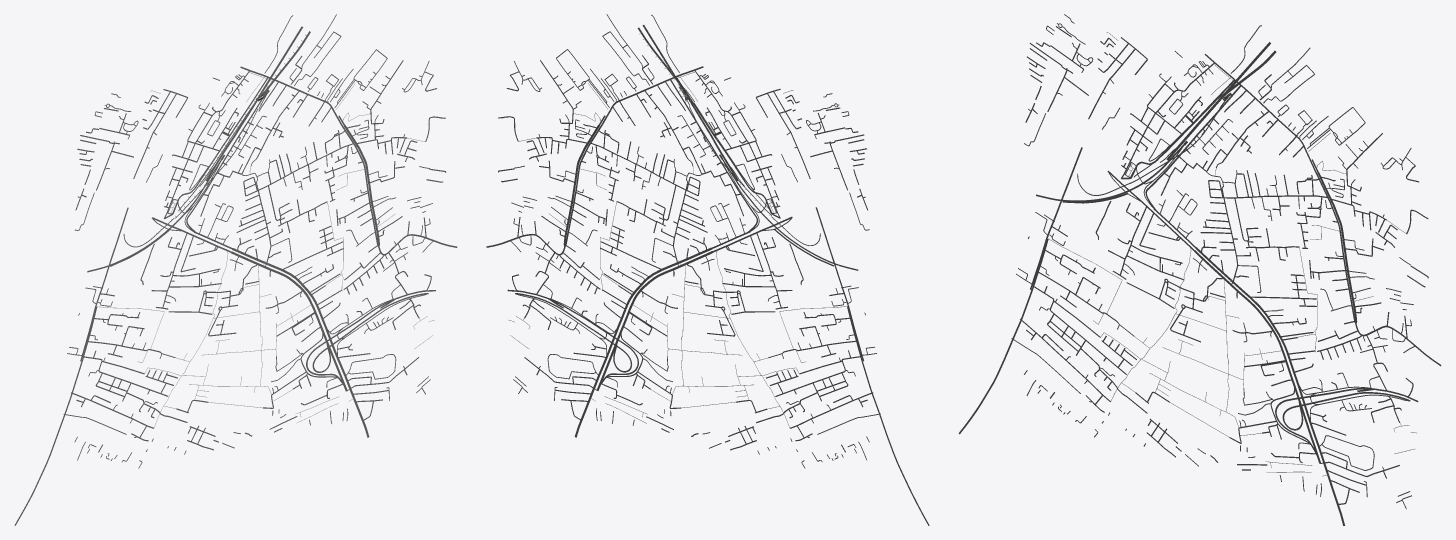
File: roads_3_3.obj
3 views of the same model, side by side, from view 1: azimuth 30°, elevation 25°; view 2: azimuth 150°, elevation 25°; view 3: azimuth 330°, elevation 25° (orthographic). The views are drawn at different scales.
Bounding box in the file's own units: 2489 × 2379 × 26.45.
Materials: 5 (5 with a texture image).
